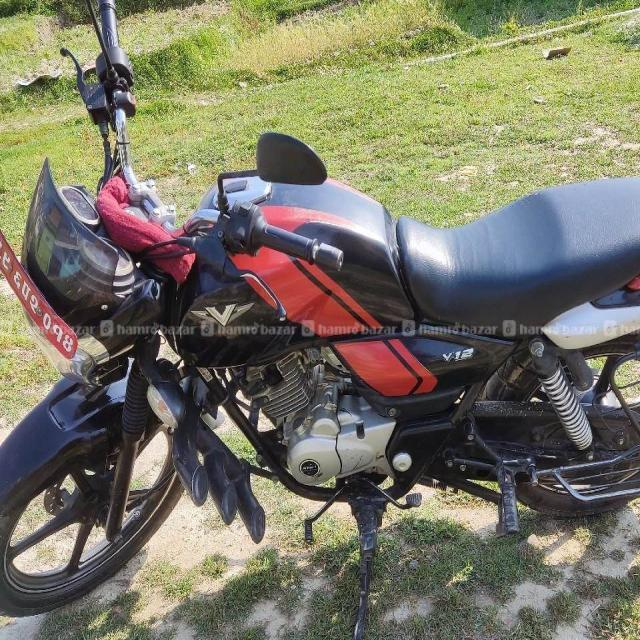License-plate: (0, 227, 79, 365)
